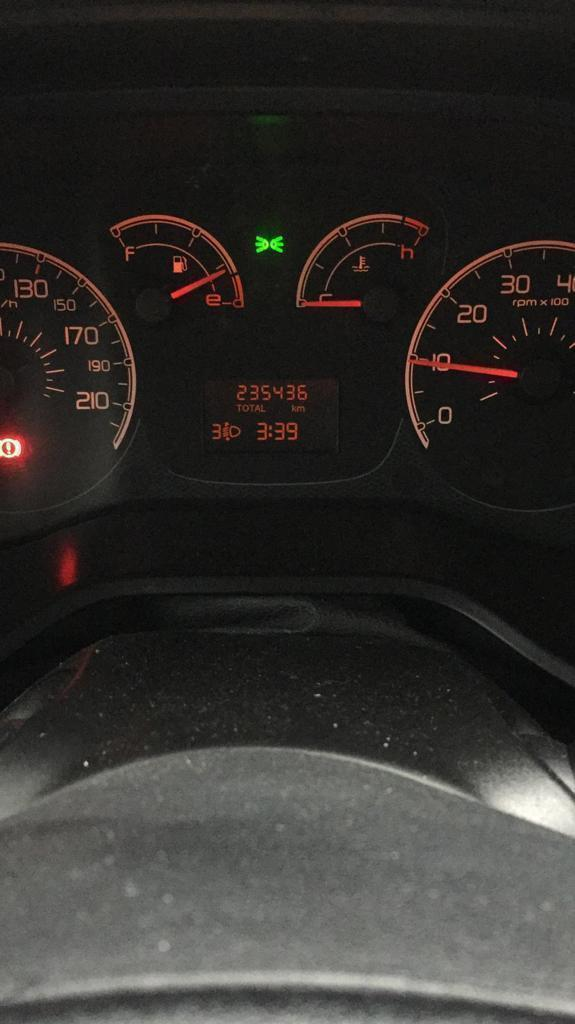2: (236, 384, 247, 400)
3: (274, 421, 284, 441), (256, 421, 266, 441), (210, 422, 221, 440), (249, 384, 259, 401), (286, 384, 294, 400)
4: (273, 384, 283, 399)
5: (261, 383, 271, 401)
6: (297, 384, 308, 400)
9: (287, 422, 297, 440)
X: (268, 423, 273, 439), (242, 403, 249, 413), (260, 403, 266, 413), (291, 402, 296, 413), (236, 403, 241, 413), (255, 403, 260, 413), (297, 405, 304, 412), (249, 403, 254, 412)
odometer: (200, 376, 339, 452)
